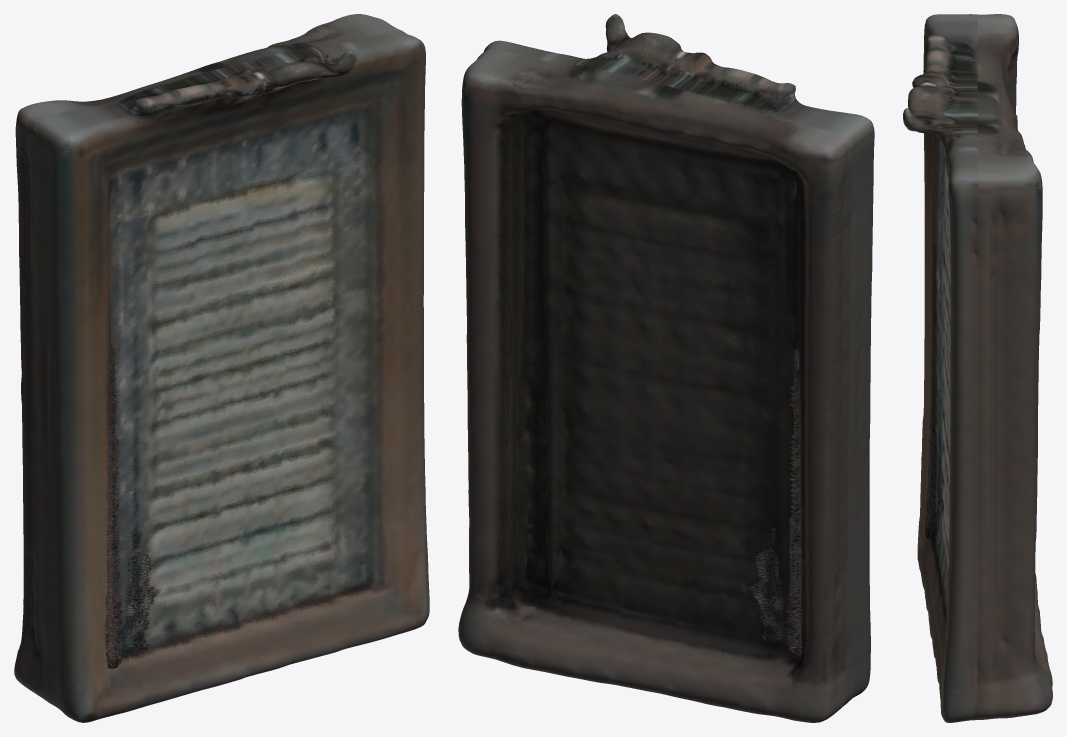
File: kfl-2190.glb
3 renders of one model, left to right at view 1: azimuth 30°, elevation 25°; view 2: azimuth 150°, elevation 25°; view 3: azimuth 270°, elevation 25°, orthographic. The views are drawn at different scales.
Visible parts, largest first — view 1: geometry_0; view 2: geometry_0; view 3: geometry_0.
Part boxes in pixels (x1,y1,x2,y2): geometry_0: [14, 14, 429, 722]; geometry_0: [458, 14, 874, 722]; geometry_0: [903, 14, 1052, 722].
Size of the model in its own units: 0.6444 by 0.9912 by 0.2339.
1 material, 1 textured.
